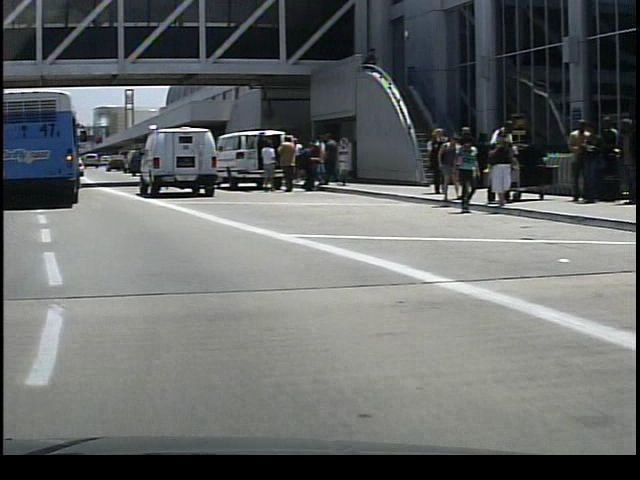person: (484, 120, 516, 209), (483, 128, 515, 210), (271, 133, 300, 195), (316, 132, 338, 185), (255, 134, 274, 193)
